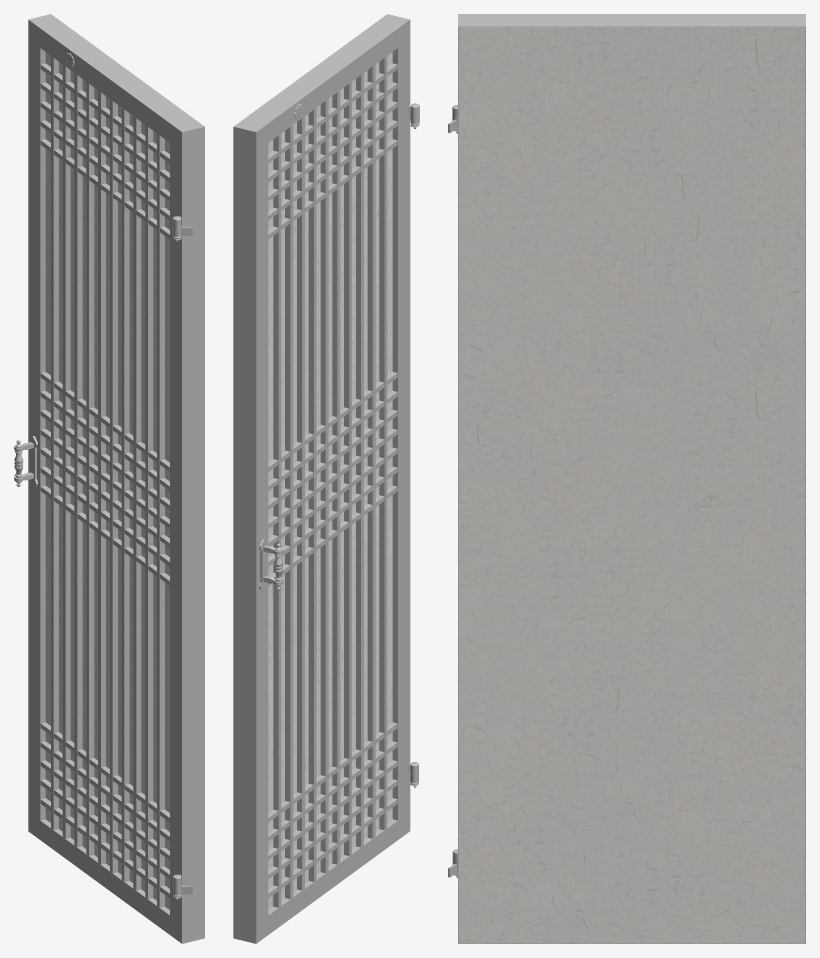
Rendered from SM_GlassDoor01G-a.fbx.
3 renders of one model, left to right at view 1: azimuth 30°, elevation 25°; view 2: azimuth 150°, elevation 25°; view 3: azimuth 270°, elevation 25°, orthographic. The views are drawn at different scales.
Parts seen in each view (by area): view 1: SM_GlassDoor01G-a; view 2: SM_GlassDoor01G-a; view 3: SM_GlassDoor01G-a.
Part boxes in pixels (<box>): SM_GlassDoor01G-a: <box>14,14,204,943</box>; SM_GlassDoor01G-a: <box>233,14,419,943</box>; SM_GlassDoor01G-a: <box>448,14,805,943</box>.
Bounding box in the file's own units: 8.78 × 57.05 × 161.
